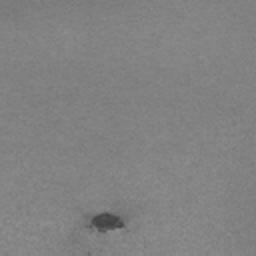Iron sheet ash: (88, 212, 125, 233)
